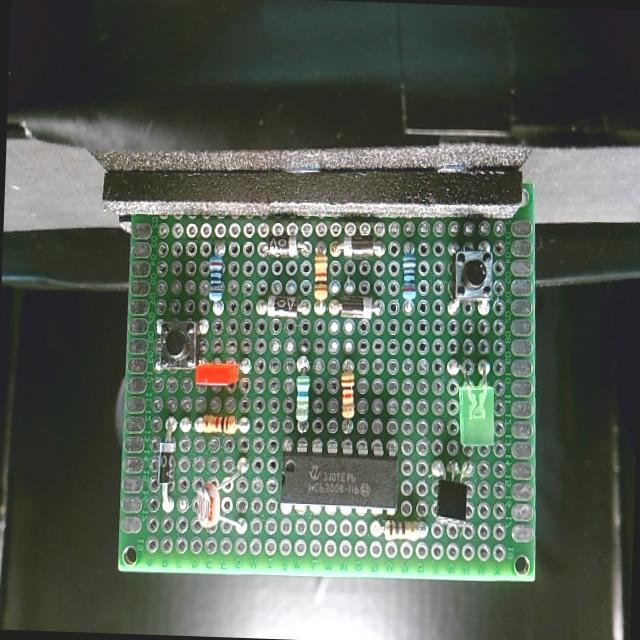IC: (278, 444, 401, 512)
cds: (192, 474, 227, 530)
diode: (334, 289, 378, 322), (154, 434, 177, 492), (261, 292, 300, 319), (339, 232, 378, 258), (264, 231, 300, 259)
led: (457, 380, 498, 449), (192, 356, 238, 389)
resistor: (398, 246, 422, 304), (310, 249, 331, 304), (294, 370, 314, 426), (206, 253, 227, 306), (338, 372, 360, 421), (382, 516, 422, 542), (198, 413, 238, 434)
switch: (449, 248, 495, 306), (156, 316, 200, 374)
transistor: (432, 478, 470, 527)
